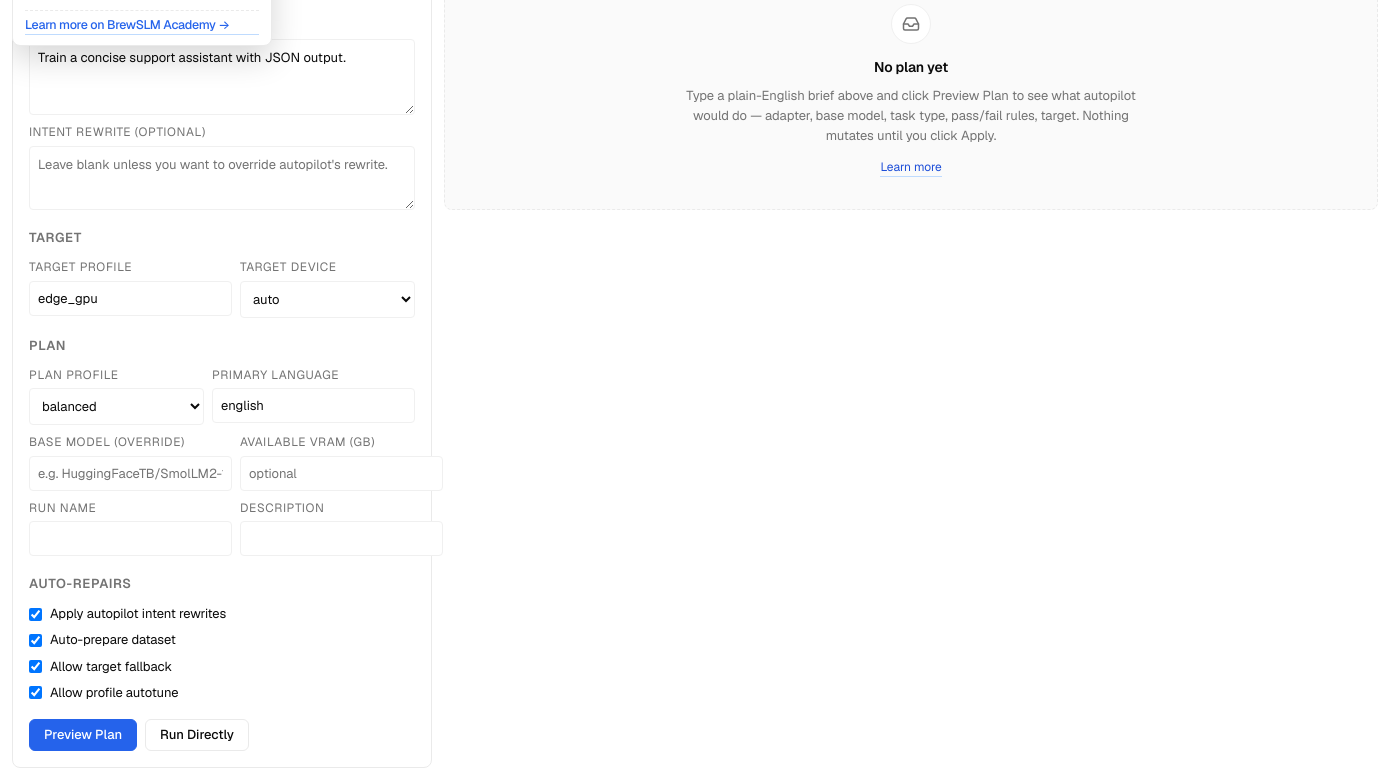
Test: ProjectAutopilotPage › surfaces API errors from preview
The width and height of the screenshot is (1378, 768).
(page scrolled)
Click the button "Preview Plan". click: coordinates (83, 735)
box: [29,719,137,751]
(page scrolled)
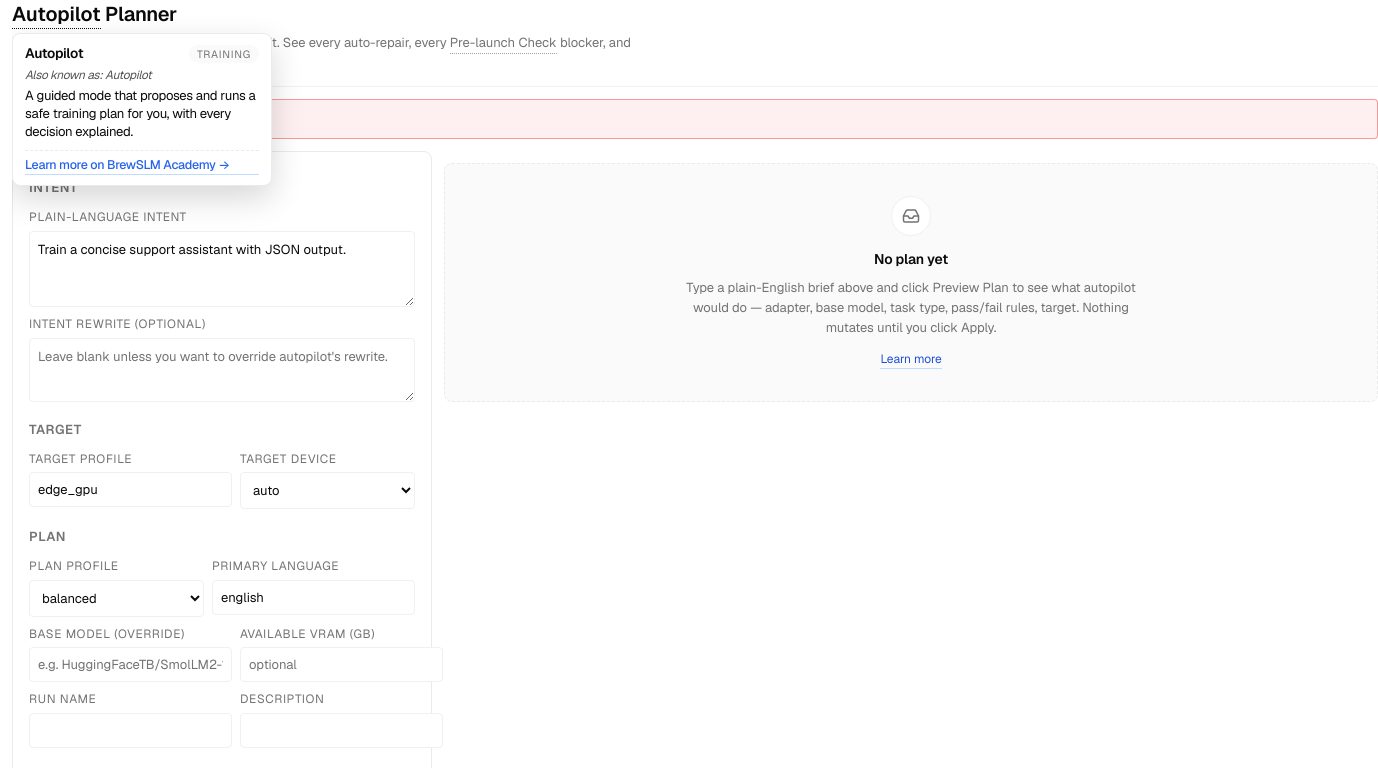
Expected: the text "bad intent" is shown, [12,99,1377,139]
